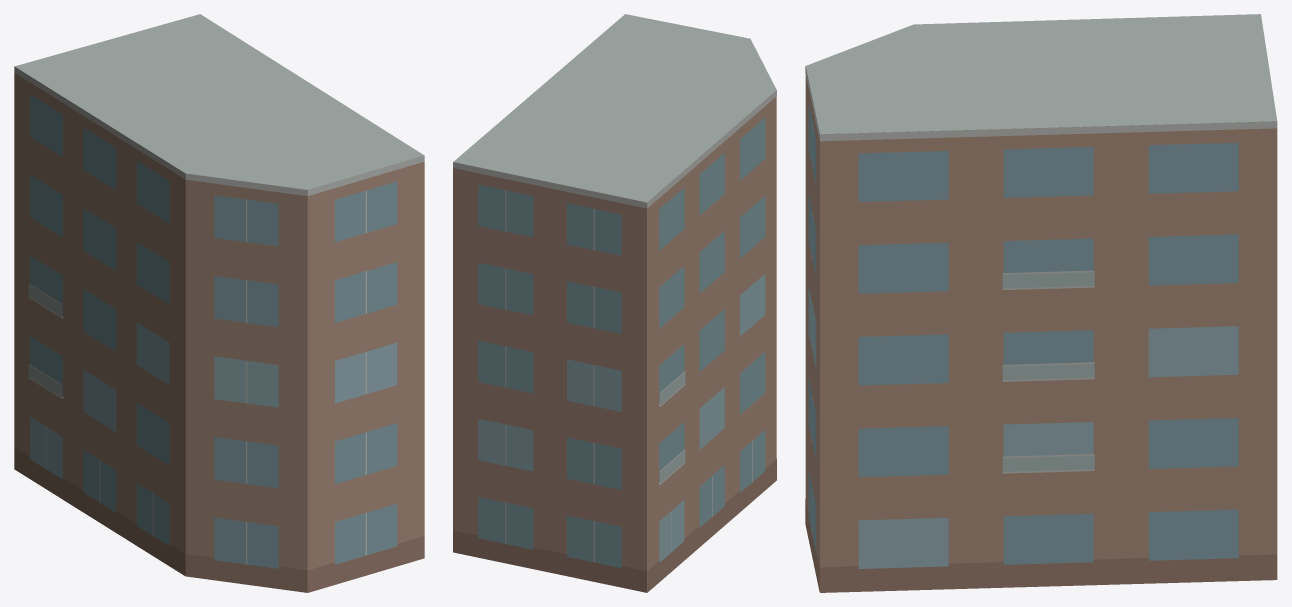
File: survey-upis-33029780.glb
The picture shows the model from 3 angles, left to right: view 1: azimuth 30°, elevation 25°; view 2: azimuth 150°, elevation 25°; view 3: azimuth 270°, elevation 25°; orthographic projection. The views are drawn at different scales.
Parts seen in each view (by area): view 1: survey-upis-33029780.tmp; view 2: survey-upis-33029780.tmp; view 3: survey-upis-33029780.tmp.
Boxes of the visible parts, bbox=[...] form: survey-upis-33029780.tmp: bbox=[14, 14, 424, 592]; survey-upis-33029780.tmp: bbox=[453, 14, 776, 592]; survey-upis-33029780.tmp: bbox=[805, 14, 1277, 592].
Bounding box in the file's own units: 8.91 × 15.84 × 14.78.
